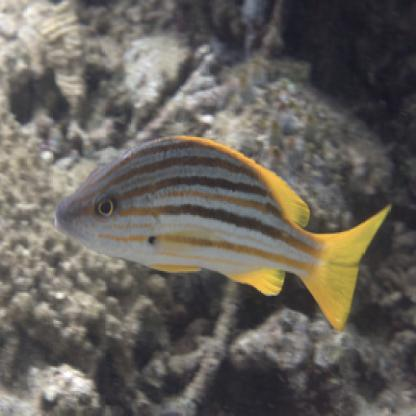Lutjanidae -Snappers-: (51, 130, 394, 333)
